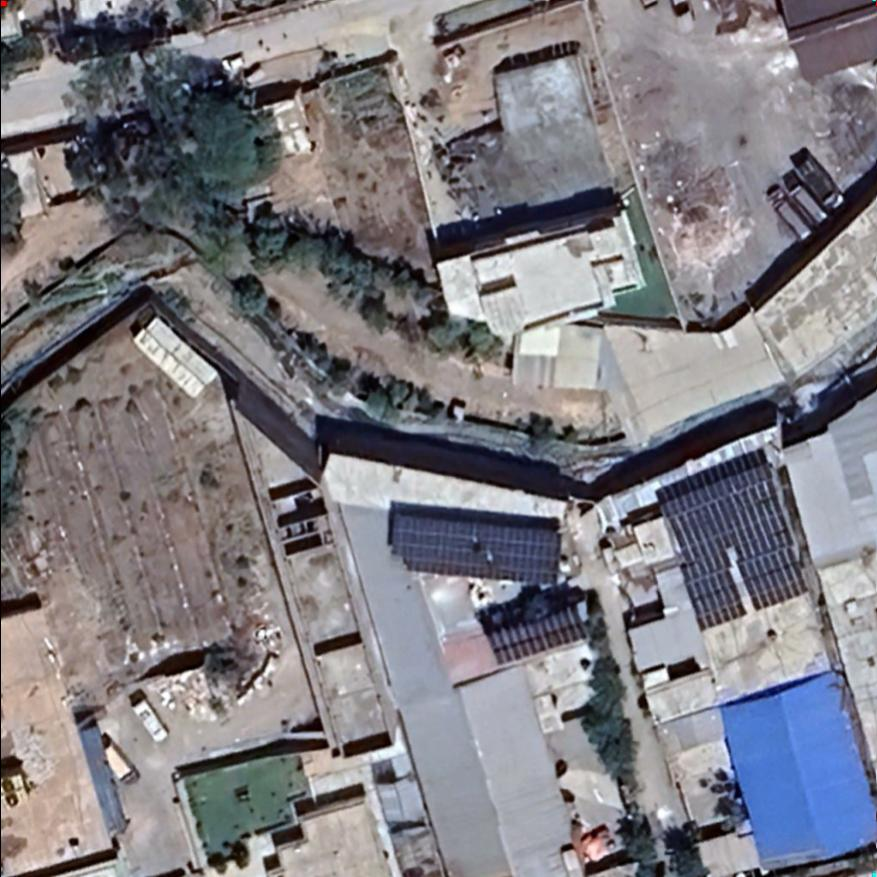Solarpanel: (390, 508, 563, 588), (659, 459, 792, 560), (729, 529, 809, 613), (486, 607, 589, 669), (675, 551, 746, 634)
